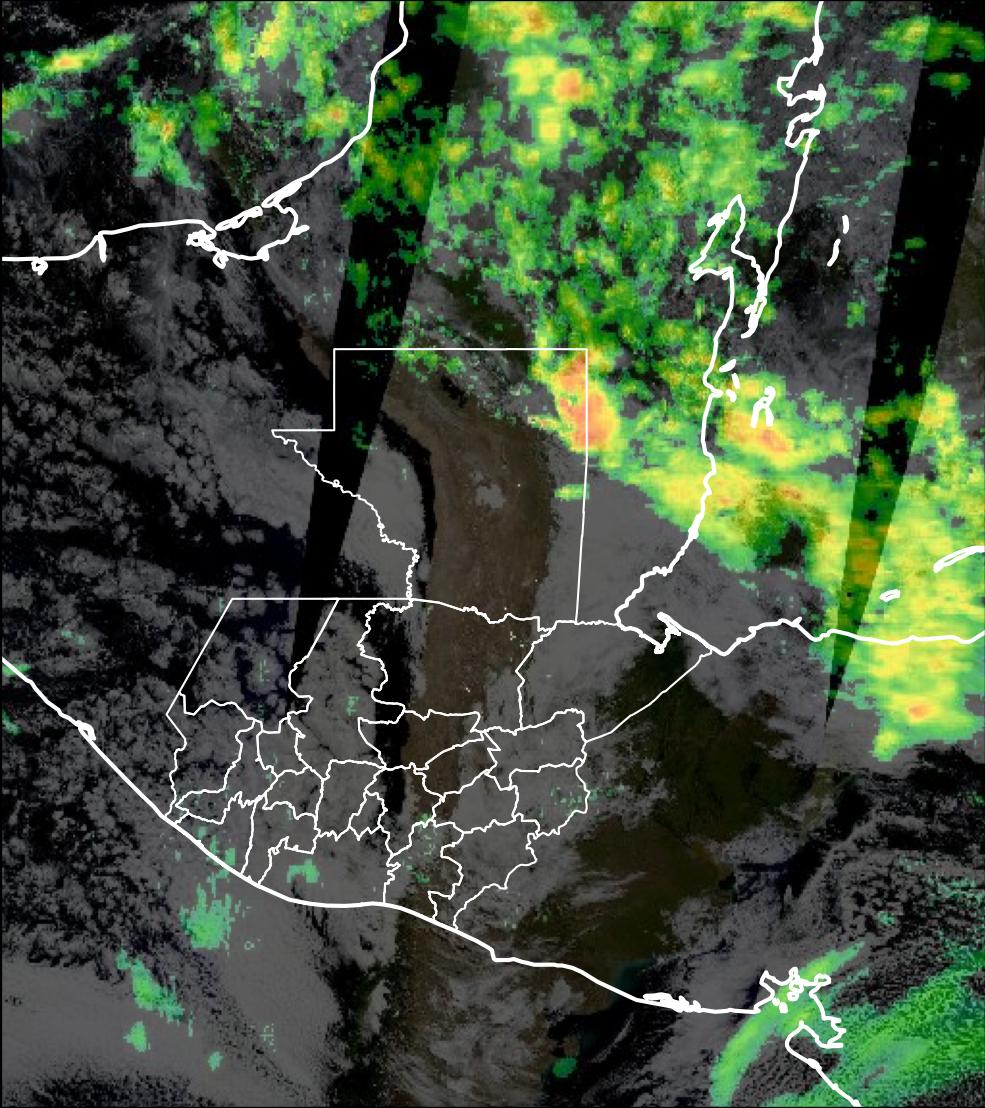precipitacion: (554, 358, 630, 468)
